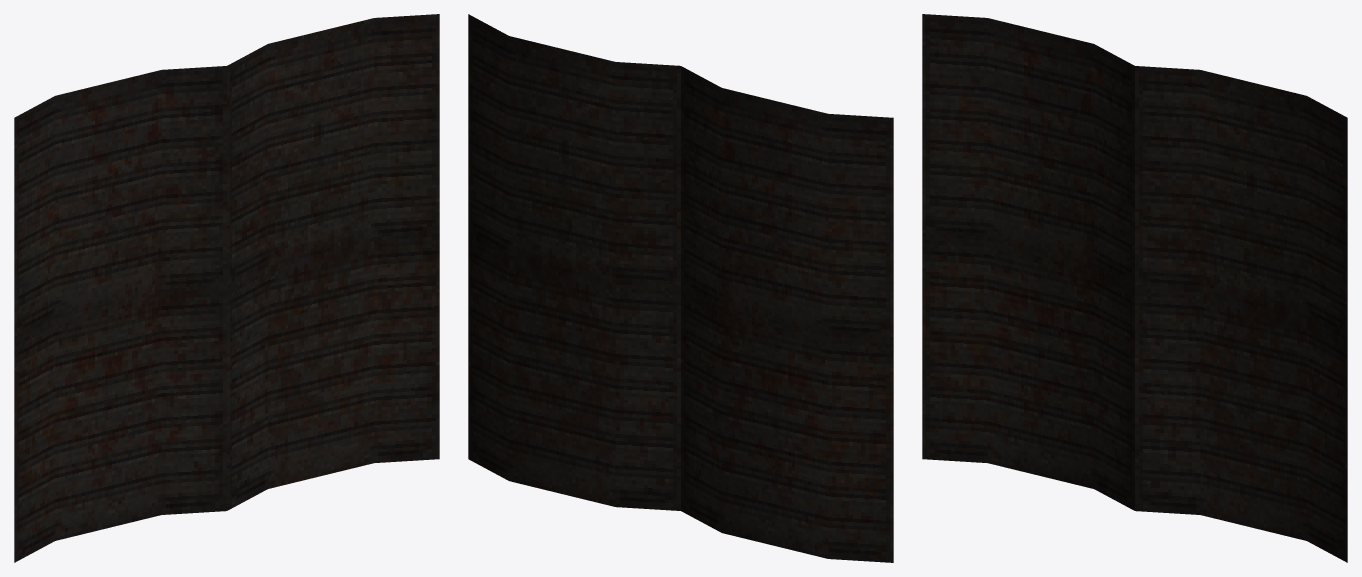
Rendered from wall_7.glb.
3 renders of one model, left to right at view 1: azimuth 30°, elevation 25°; view 2: azimuth 150°, elevation 25°; view 3: azimuth 330°, elevation 25°, orthographic.
Visible parts, largest first — view 1: wall_7; view 2: wall_7; view 3: wall_7.
Part boxes in pixels (x1,y1,x2,y2): wall_7: (14, 14, 439, 562); wall_7: (468, 14, 893, 562); wall_7: (922, 14, 1347, 562).
Bounding box in the file's own units: 2 × 2 × 0.1.
Materials: 1 (1 with a texture image).
